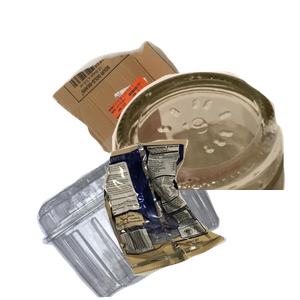cardboard: (50, 38, 233, 184)
glass: (89, 69, 300, 249)
plastic: (34, 130, 246, 300)
trash: (101, 137, 300, 300)
